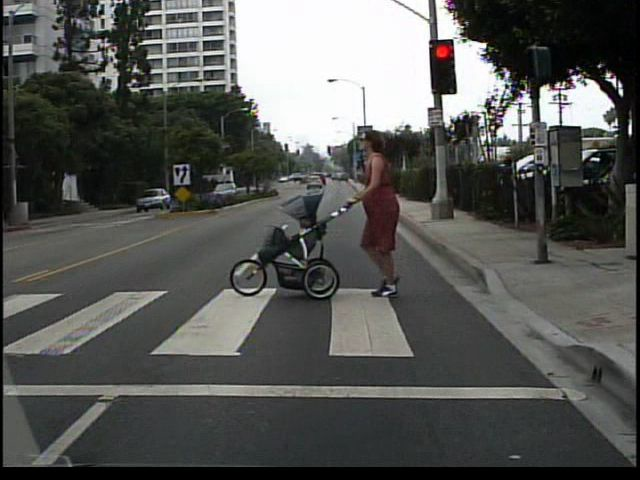person: (345, 132, 439, 301)
